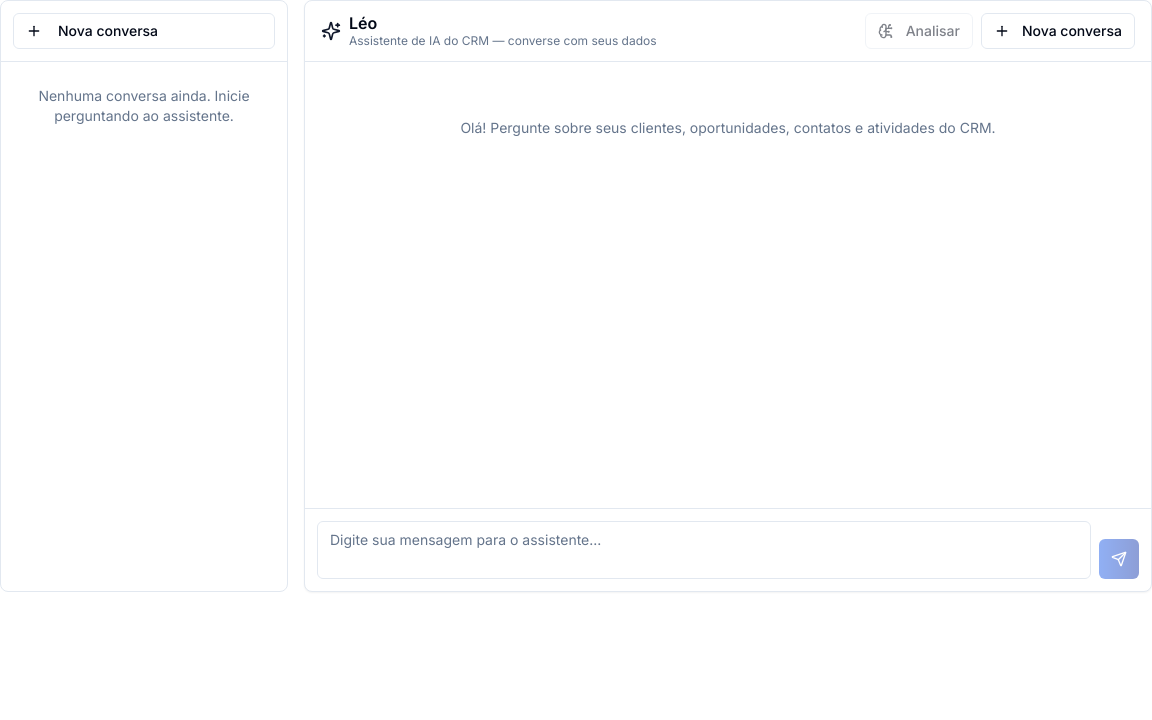
Test: AiChatAssistant (AI-04) › trata erro de forma amigável (sem stack trace)
Step 1. Type "oi" into the text box labelled "mensagem para o assistente" → (704, 550), box [317,521,1091,579]
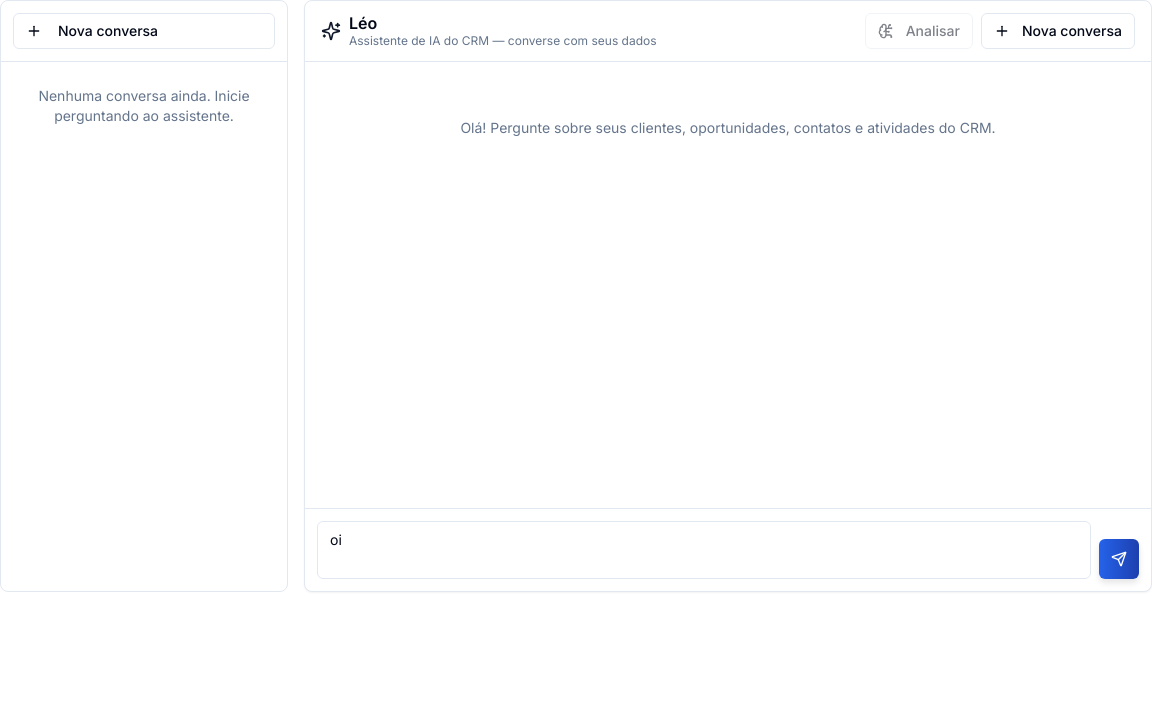
Step 2. Click the button named "Enviar mensagem" → (1119, 559), box [1099,539,1139,579]
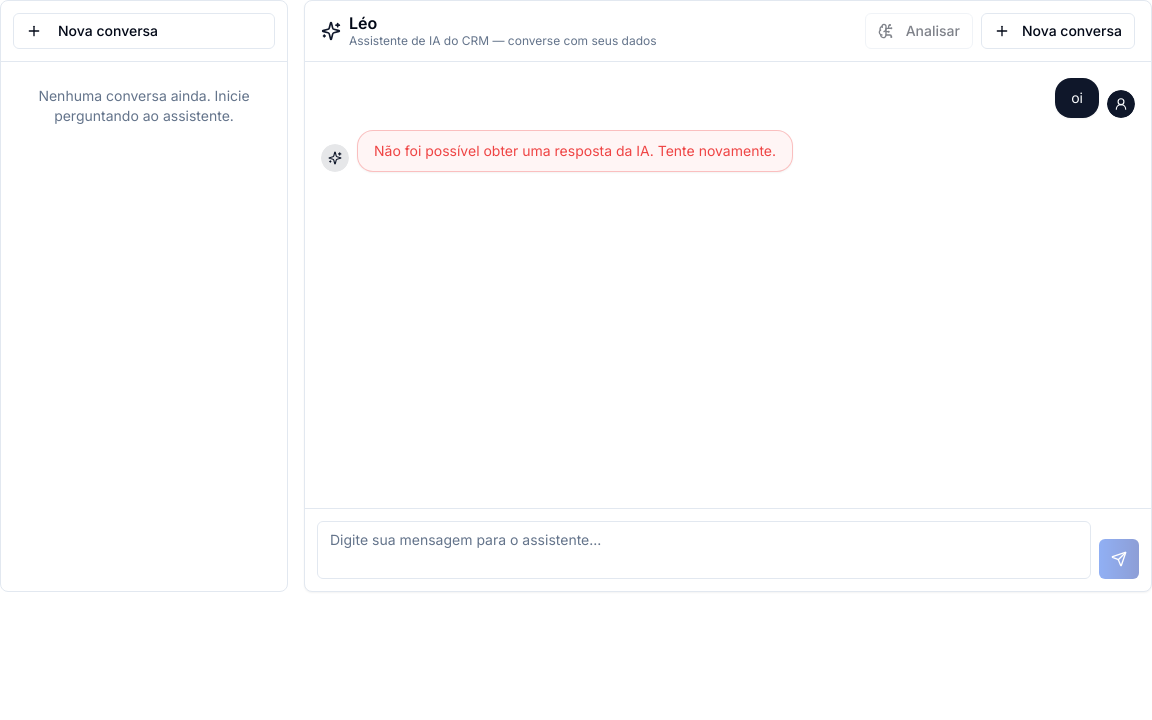
Now the text "Não foi possível obter uma resposta da IA. Tente novamente." is shown, box [374,141,776,161]
